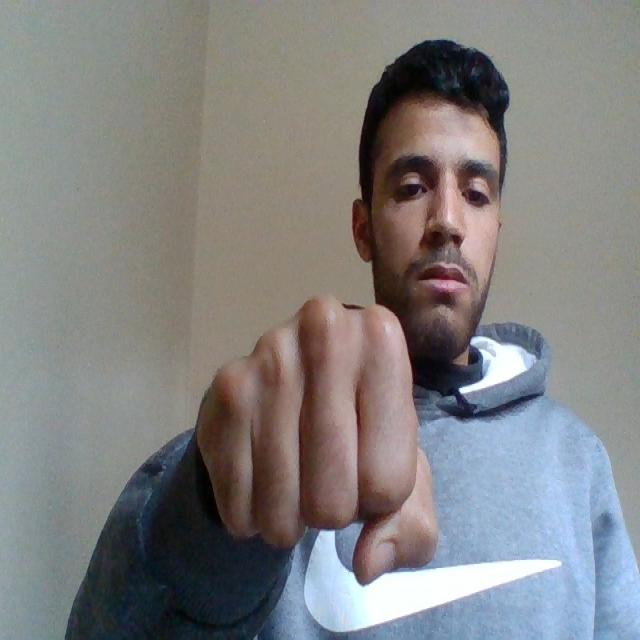No: (188, 280, 440, 588)
